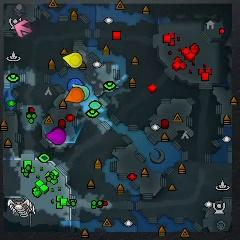p1: (68, 79, 83, 89)
p2: (72, 83, 90, 101)
p3: (45, 127, 66, 145)
p4: (62, 52, 83, 68)
p5: (64, 87, 84, 102)
x1: (15, 20, 31, 37)
